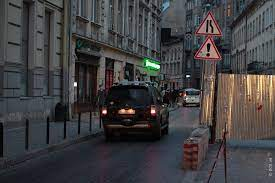1.18.2: (196, 11, 222, 36)
1.30: (194, 38, 221, 60)
